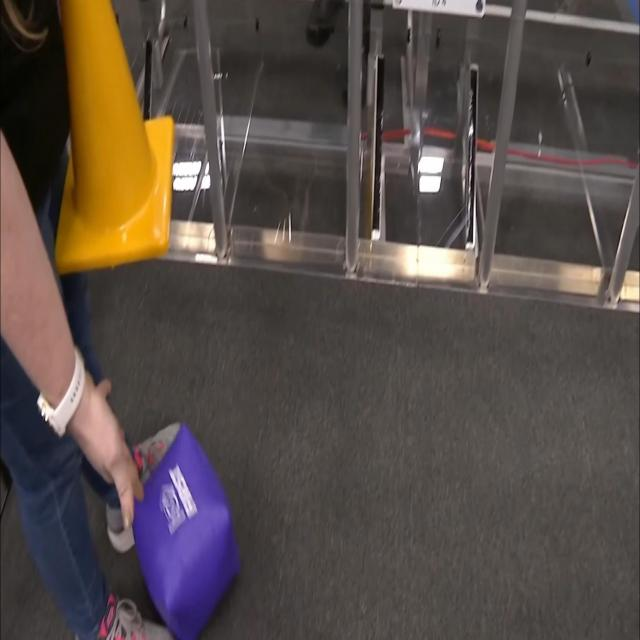frc_cone: (43, 0, 174, 273)
frc_cube: (132, 419, 246, 640)
